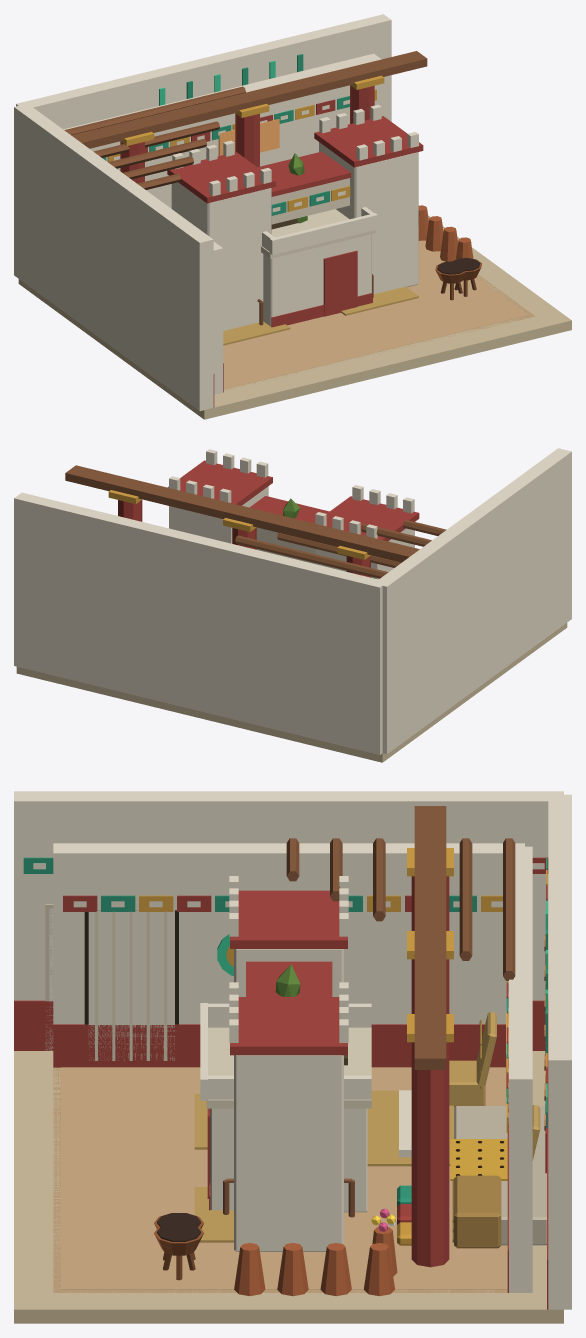
The model's file is tenochtitlan.glb.
3 views of the same model, one above another, from view 1: azimuth 30°, elevation 25°; view 2: azimuth 150°, elevation 25°; view 3: azimuth 270°, elevation 25° (orthographic). The views are drawn at different scales.
Parts seen in each view (by area): view 1: palace_hall, chamber_interior, xoloc_fort, mexica_house; view 2: palace_hall, xoloc_fort, chamber_interior; view 3: chamber_interior, palace_hall, xoloc_fort, mexica_house.
Part boxes in pixels (x1,y1,x2,y2): palace_hall: (14,14,571,419); chamber_interior: (63,53,535,394); xoloc_fort: (167,104,423,330); mexica_house: (261,207,377,327); palace_hall: (14,448,571,762); xoloc_fort: (167,449,419,579); chamber_interior: (235,519,446,578); chamber_interior: (53,838,532,1292); palace_hall: (14,791,571,1323); xoloc_fort: (229,876,348,1251); mexica_house: (200,1003,371,1212).
Bounding box in the file's own units: 8.1 × 4.3 × 7.1.
